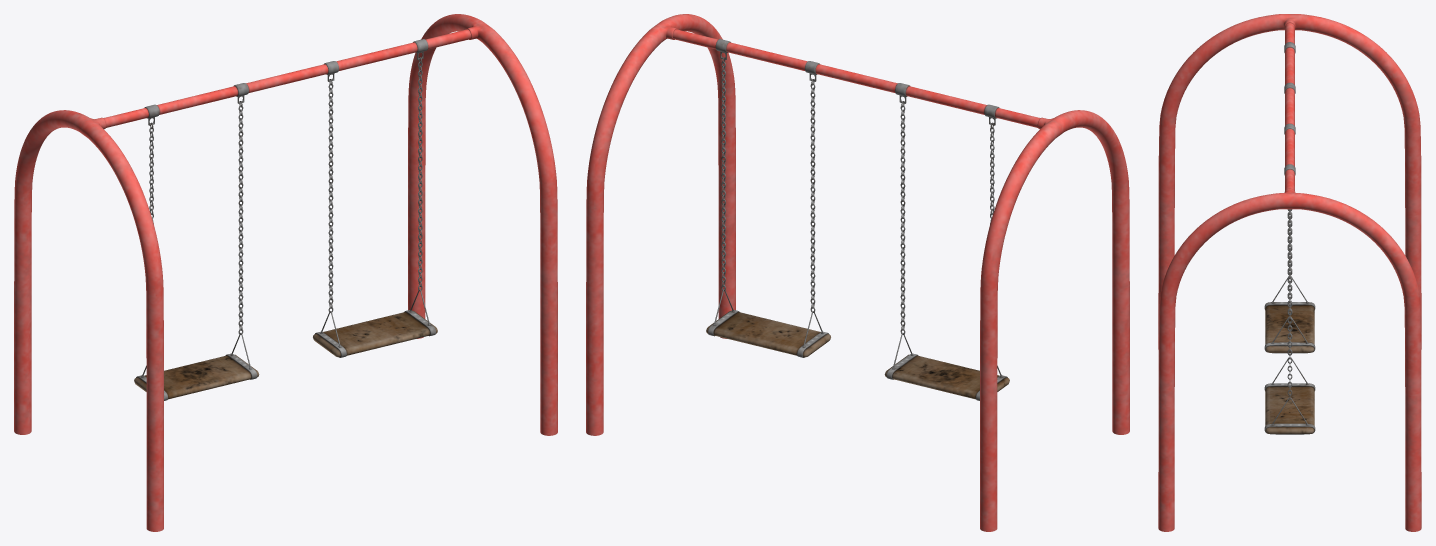
3 renders of one model, left to right at view 1: azimuth 30°, elevation 25°; view 2: azimuth 150°, elevation 25°; view 3: azimuth 270°, elevation 25°, orthographic. The views are drawn at different scales.
Parts seen in each view (by area): view 1: Swings; view 2: Swings; view 3: Swings.
Boxes of the visible parts, left/top/right/bottom form: Swings: left=14, top=14, right=557, bottom=531; Swings: left=586, top=14, right=1129, bottom=531; Swings: left=1158, top=14, right=1421, bottom=531.
Size of the model in its own units: 28.52 by 23.95 by 17.05.
1 material, 1 textured.
